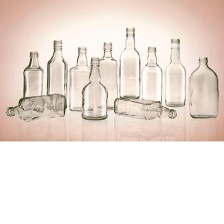bottle: (187, 53, 221, 122), (4, 92, 70, 122), (79, 56, 109, 122), (161, 35, 188, 108), (117, 24, 142, 99), (67, 42, 93, 113), (113, 95, 180, 122), (94, 40, 118, 111), (44, 37, 68, 98), (140, 44, 162, 107), (20, 48, 44, 101)
